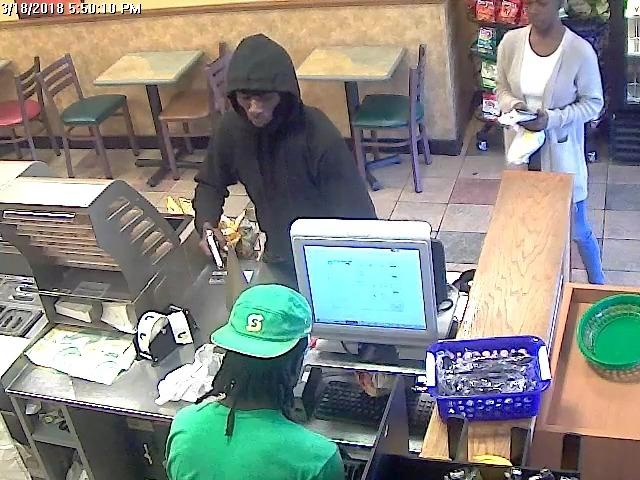weapon: (195, 226, 235, 270)
